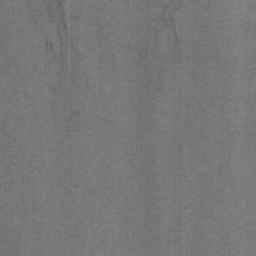Water spot: (24, 0, 99, 151), (129, 0, 184, 109), (90, 20, 118, 74)
